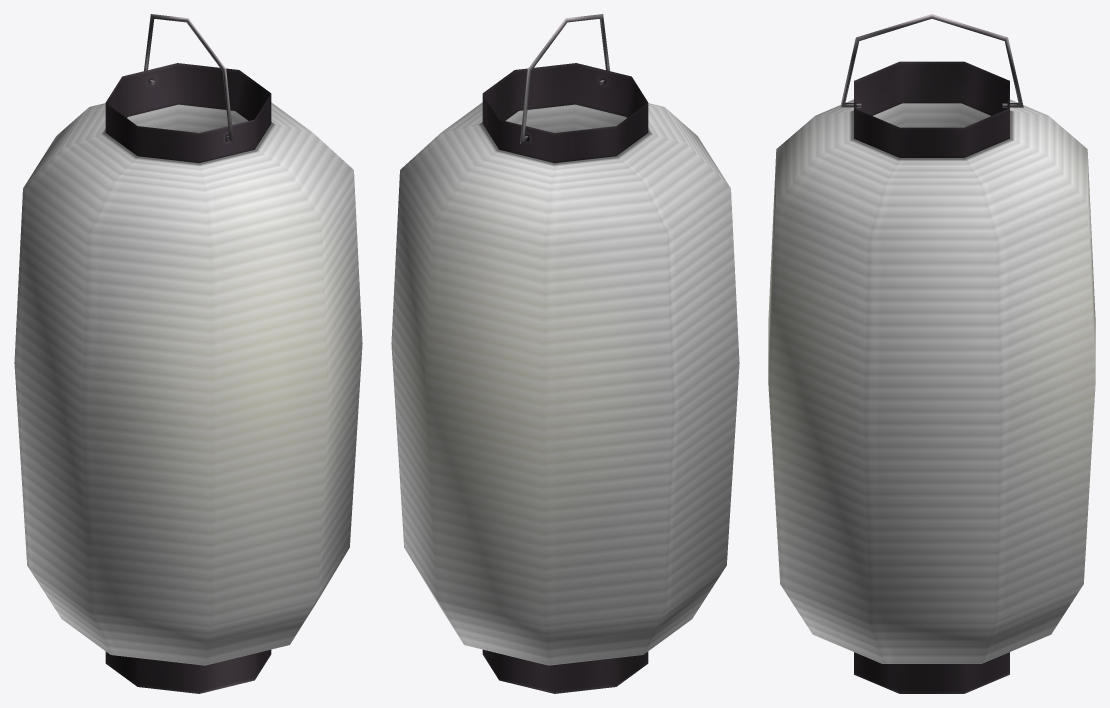
Rendered from jsf_Light_Lantern_04.fbx.
3 renders of one model, left to right at view 1: azimuth 30°, elevation 25°; view 2: azimuth 150°, elevation 25°; view 3: azimuth 270°, elevation 25°, orthographic.
Visible parts, largest first — view 1: Lantern, Handle; view 2: Lantern, Handle; view 3: Lantern, Handle.
Boxes of the visible parts, x1,y1,x2,y2 form: Lantern: (14,63,362,693); Handle: (144,14,233,143); Lantern: (391,63,739,693); Handle: (520,14,609,143); Lantern: (768,61,1095,693); Handle: (840,14,1023,107).
Size of the model in its own units: 24.44 by 53.27 by 24.44.
